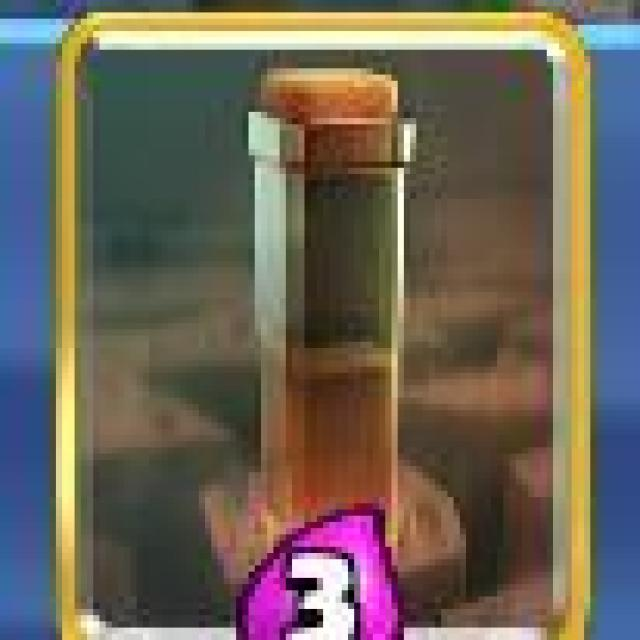Earthquake: (50, 10, 596, 640)
